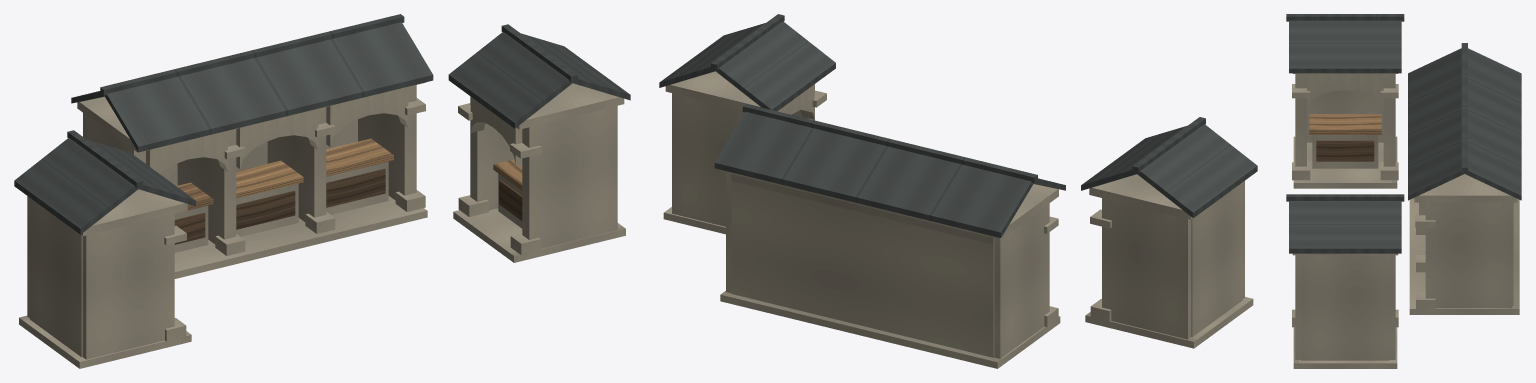
File: windhoek.glb
3 renders of one model, left to right at view 1: azimuth 30°, elevation 25°; view 2: azimuth 150°, elevation 25°; view 3: azimuth 270°, elevation 25°, orthographic. The views are drawn at different scales.
Parts seen in each view (by area): view 1: windhoek; view 2: windhoek; view 3: windhoek.
Part boxes in pixels (left/top/right/bottom): windhoek: left=14, top=14, right=630, bottom=368; windhoek: left=659, top=14, right=1257, bottom=368; windhoek: left=1286, top=14, right=1521, bottom=368.
Bounding box in the file's own units: 7.4 × 2.27 × 3.22.
1 material, 1 textured.
